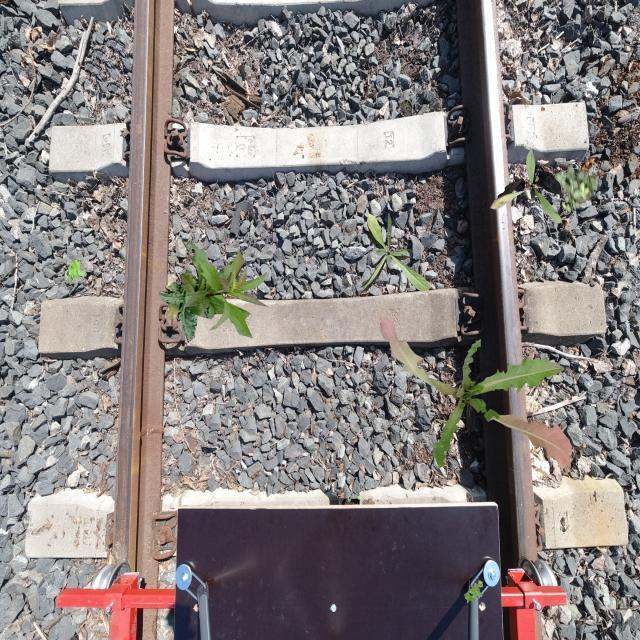Plant: (380, 318, 572, 470), (181, 241, 270, 338), (358, 213, 430, 294), (490, 149, 562, 224), (159, 281, 222, 343), (555, 164, 598, 214), (66, 260, 86, 285), (464, 580, 484, 604)
